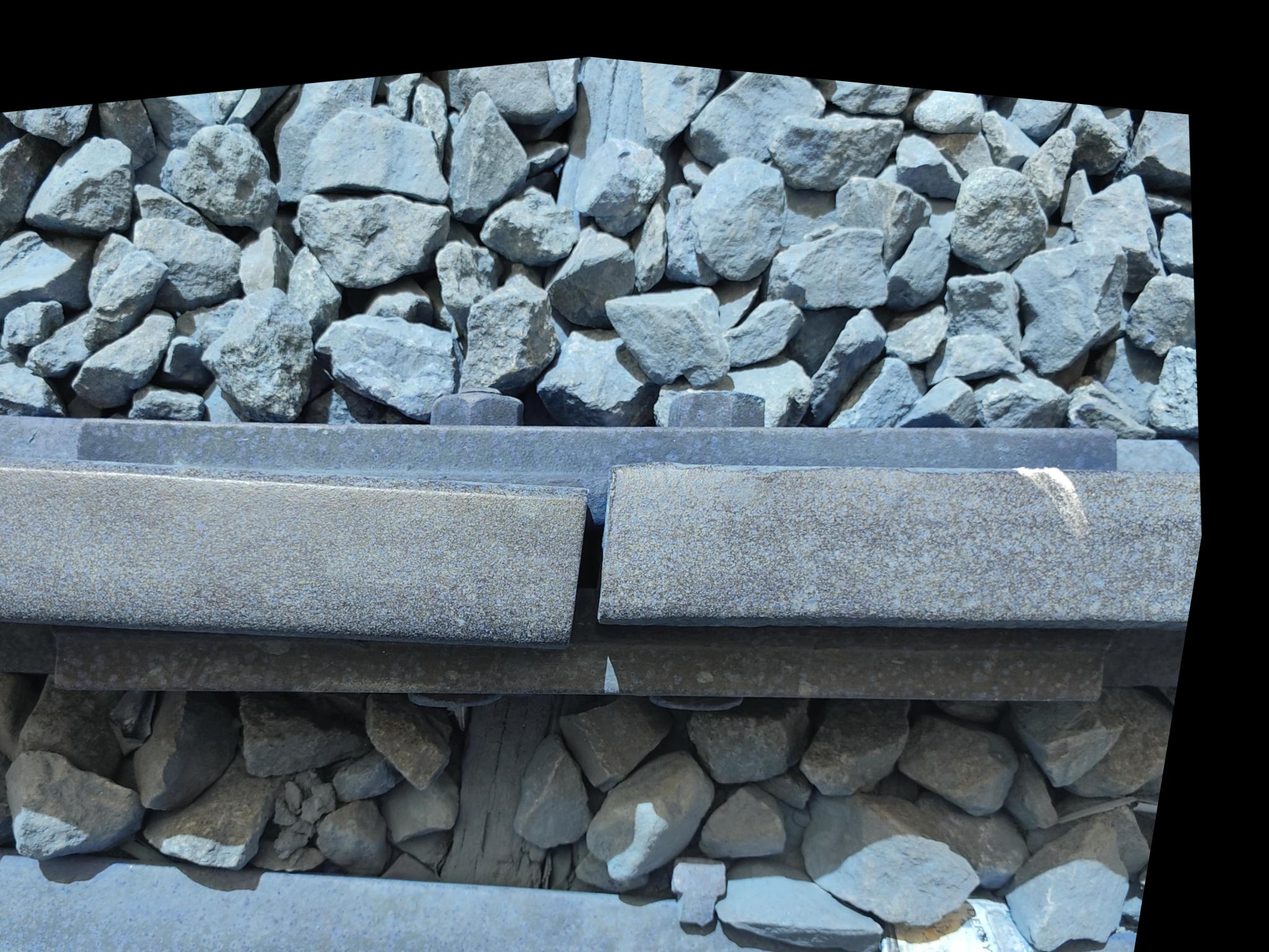person: (446, 393, 770, 687)
